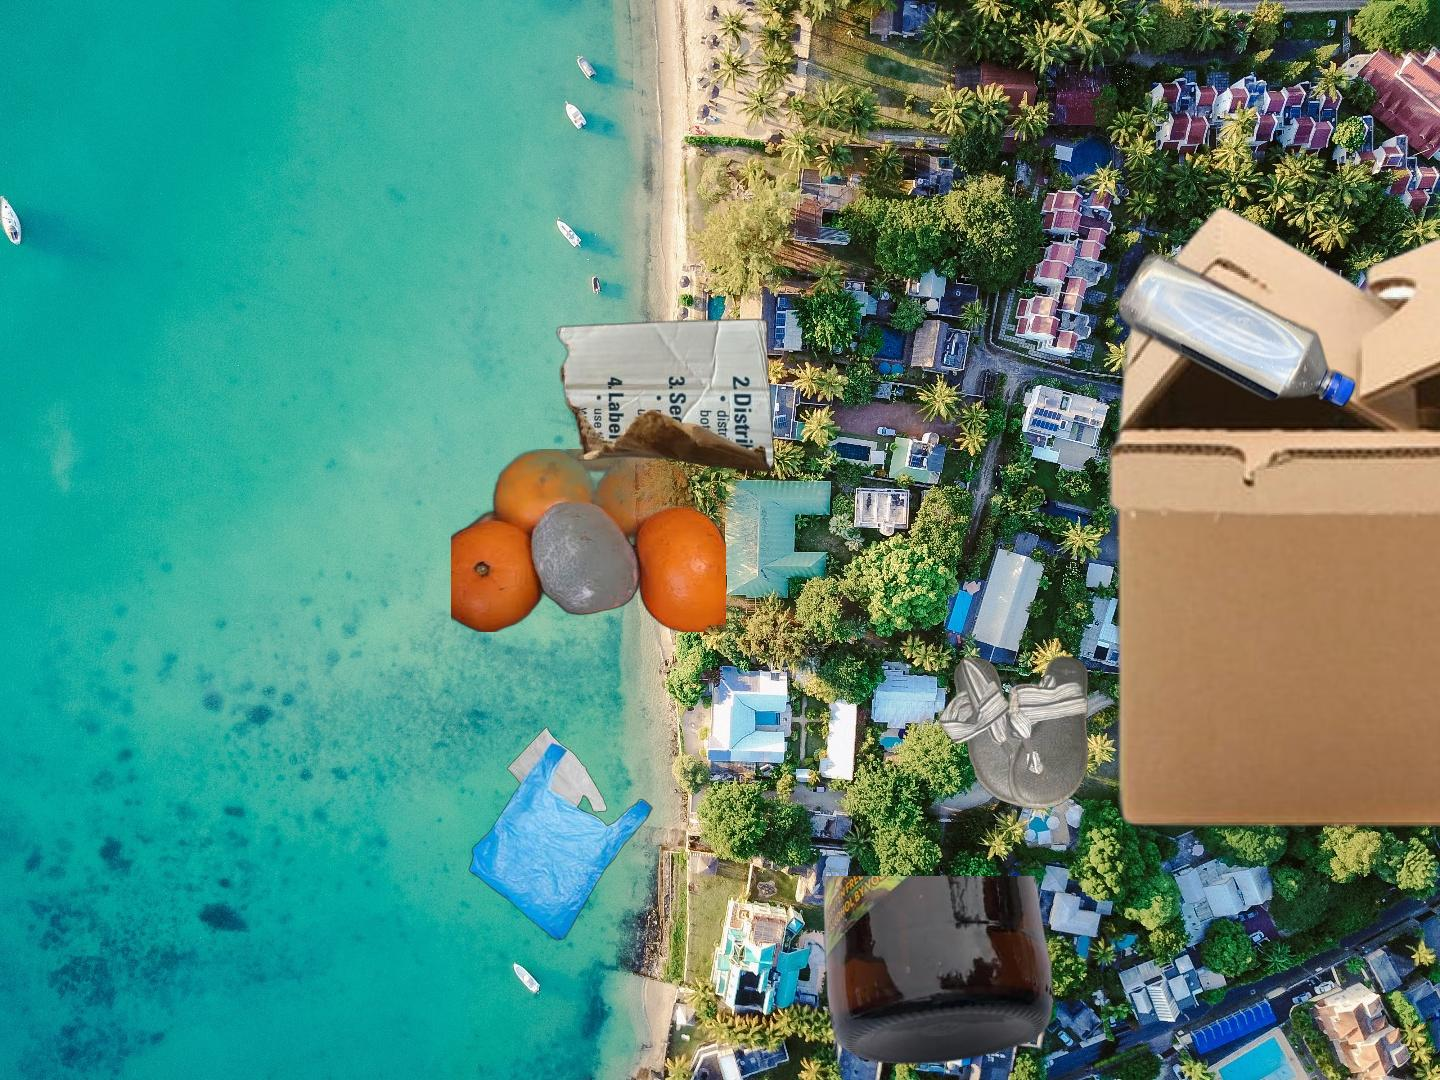biological: (451, 449, 726, 632)
glass: (819, 876, 1059, 1068)
penholder: (1079, 140, 1440, 845)
plastic-bag: (466, 726, 654, 943)
plastic-bottles: (1113, 246, 1359, 413)
shoes: (937, 653, 1091, 812)
trashbox-cardboard: (1098, 182, 1440, 835), (552, 315, 779, 475)
